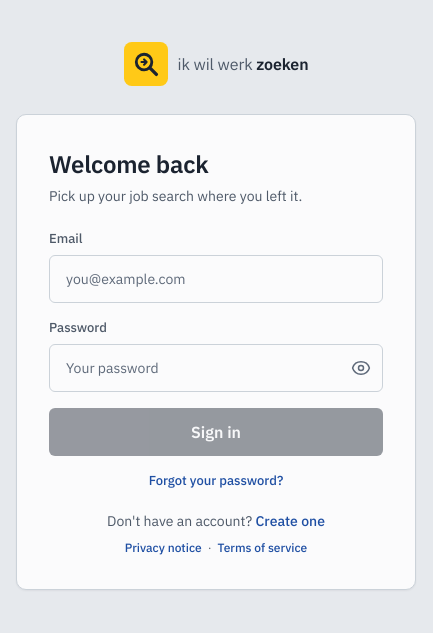
LoginView › shows "Incorrect email or password" for Unauthorized error
Type "a@b.com" into the field labelled "Email" at (216, 279), box [49, 255, 383, 303]
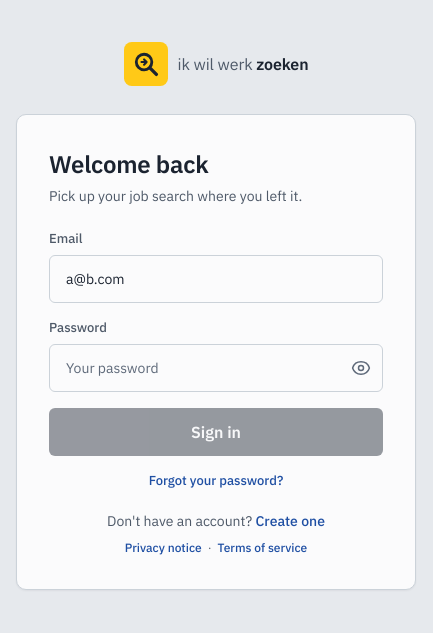
Type "wrong" into the password field with id "login-password" at (216, 368), box [49, 344, 383, 392]
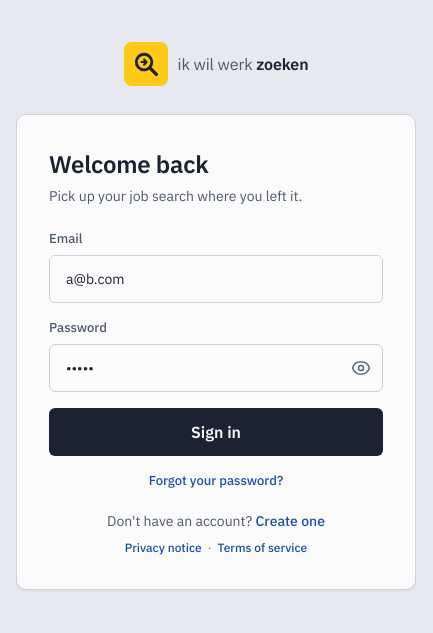
Submit the form, box [49, 230, 383, 491]
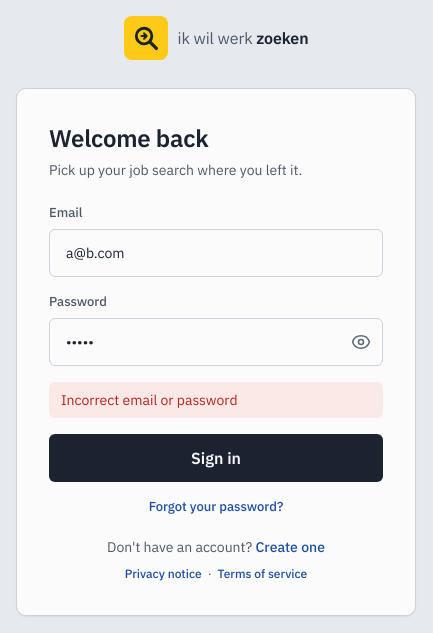
Expected: the text "Incorrect email or password" is shown, [49, 382, 383, 418]
